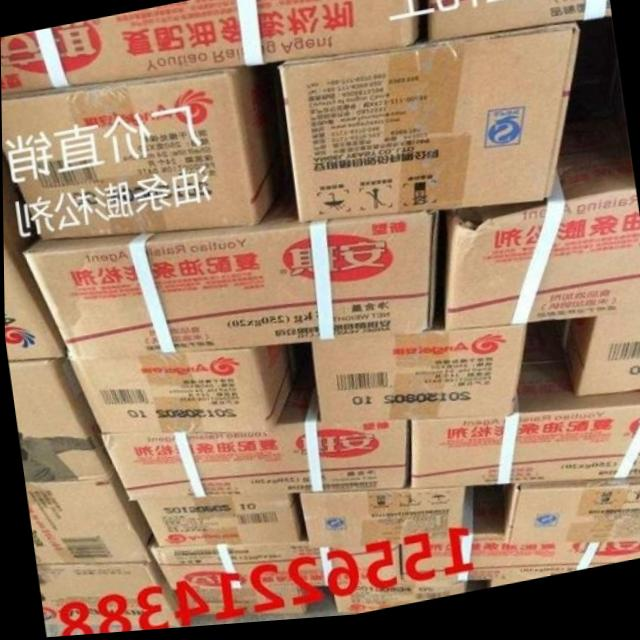box: (23, 180, 443, 359), (437, 28, 640, 334), (279, 29, 584, 226), (1, 66, 291, 238), (147, 493, 640, 594), (98, 364, 405, 503), (0, 0, 424, 98), (407, 330, 640, 493), (71, 345, 311, 437), (305, 334, 526, 425), (2, 155, 73, 360), (8, 360, 114, 483), (25, 475, 153, 566), (36, 555, 182, 632), (137, 498, 306, 550), (494, 493, 640, 551), (296, 497, 472, 544), (425, 0, 611, 44), (548, 325, 640, 401), (330, 585, 466, 617), (173, 589, 306, 619), (487, 574, 588, 594)
